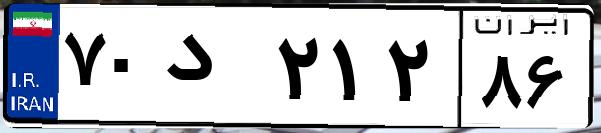0: (110, 28, 158, 98)
1: (330, 28, 385, 110)
2: (270, 28, 330, 110), (385, 28, 445, 110)
6: (525, 38, 570, 115)
7: (57, 26, 110, 100)
8: (475, 38, 525, 113)
د: (158, 20, 270, 120)
